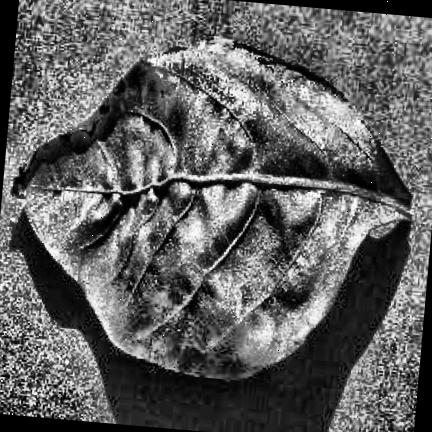leaf: (17, 38, 411, 378)
